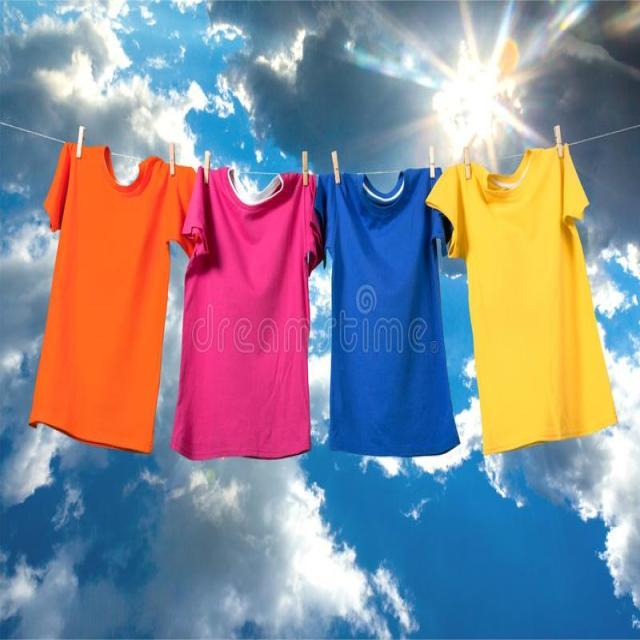clothes: (425, 124, 616, 454), (166, 140, 320, 462), (312, 159, 464, 460), (38, 118, 162, 448)
